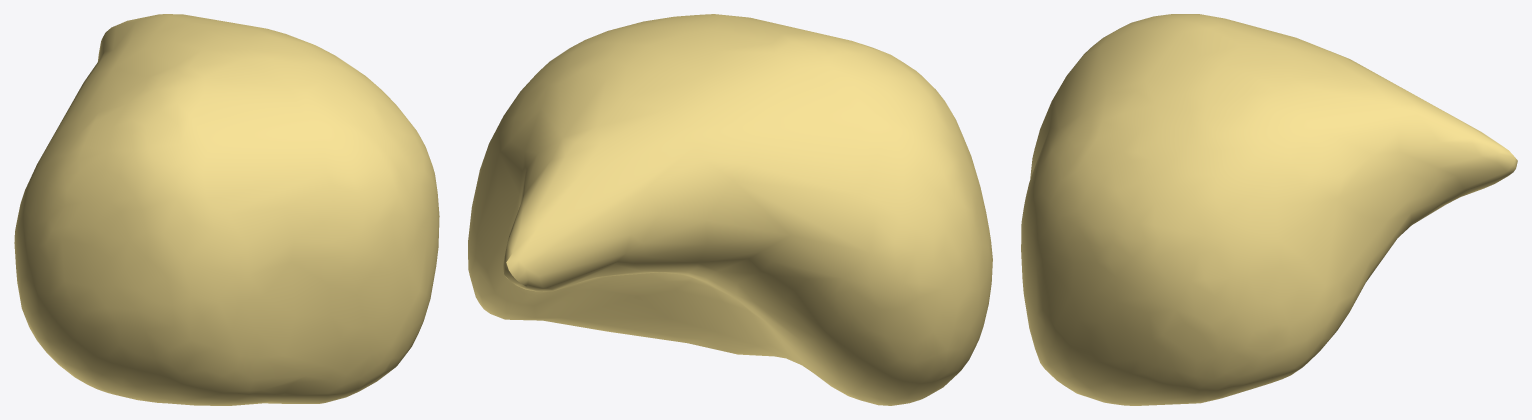
Rendered from fma72833.glb.
3 renders of one model, left to right at view 1: azimuth 30°, elevation 25°; view 2: azimuth 150°, elevation 25°; view 3: azimuth 270°, elevation 25°, orthographic. The views are drawn at different scales.
Parts seen in each view (by area): view 1: FMA72833; view 2: FMA72833; view 3: FMA72833.
Boxes of the visible parts, bbox=[...] form: FMA72833: bbox=[14, 14, 439, 405]; FMA72833: bbox=[468, 14, 992, 405]; FMA72833: bbox=[1021, 14, 1517, 405].
Size of the model in its own units: 0.0163 by 0.0123 by 0.0175.
